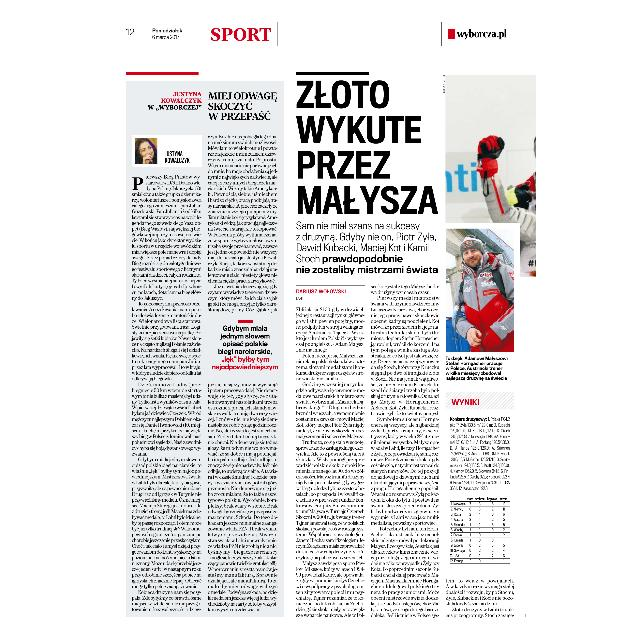article: (294, 71, 536, 623), (125, 71, 281, 615)
